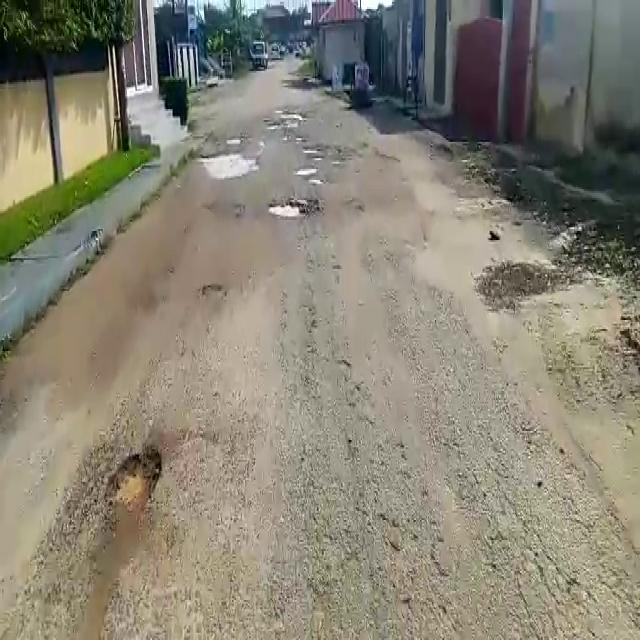Pothole: (109, 446, 160, 509), (200, 148, 258, 177), (265, 200, 311, 218), (295, 163, 318, 175)
